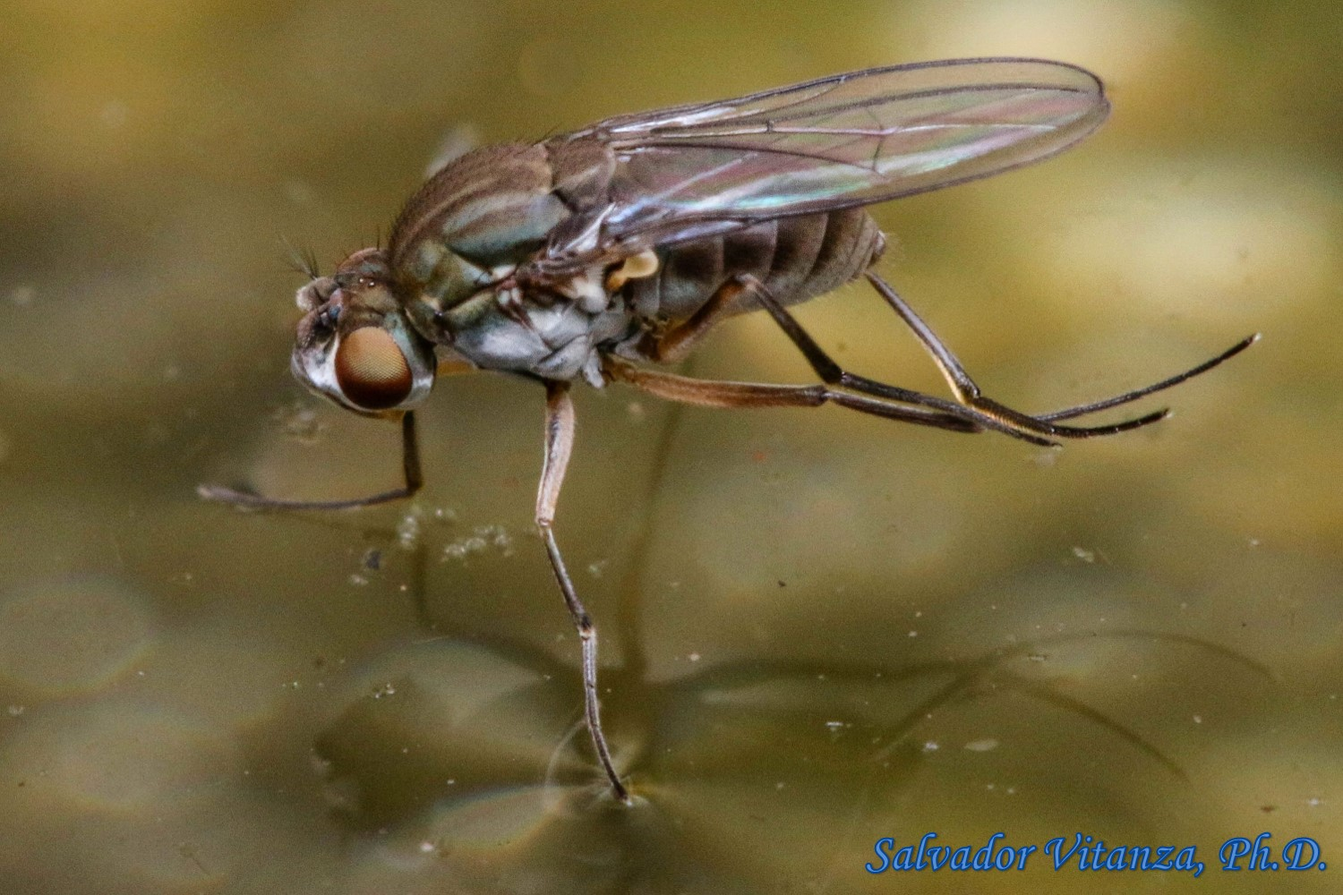Ephydridae: (202, 48, 1269, 801)
